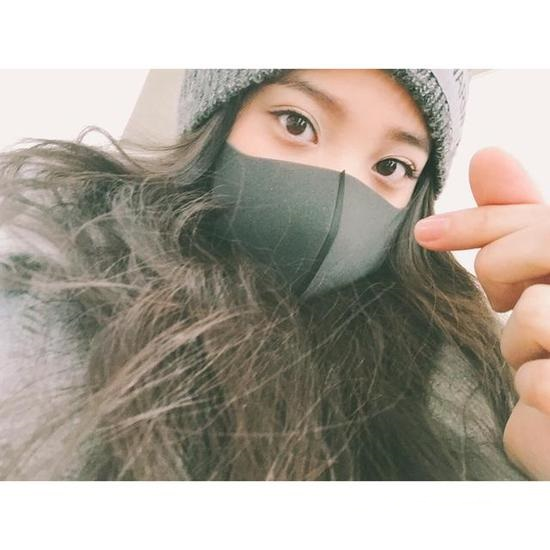face_mask: (208, 61, 431, 309)
